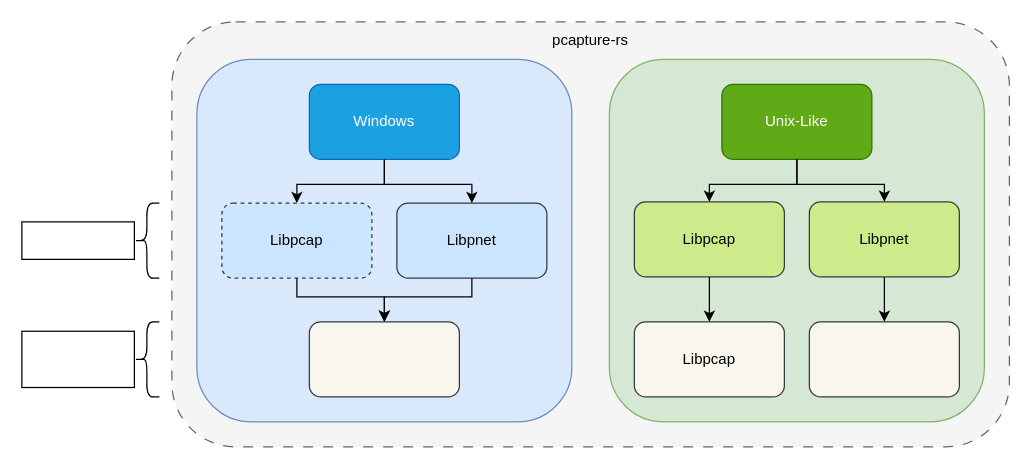
This 1031x469 diagram has some shape labels left out. The shapes that lost their labels are listed below. From the top down, each one's centre as x and y in pixels, then its label:
[77,240]: Rust Features
[77,359]: Low-Level Network API(s)
[383,359]: Npcap
[883,359]: POSIX Socket
